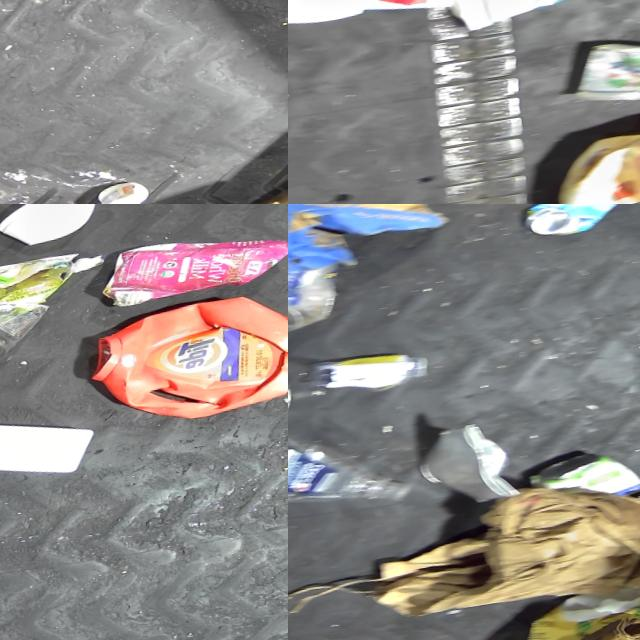can: (523, 445, 640, 519), (0, 284, 65, 375), (511, 204, 623, 247), (288, 375, 304, 431)
non_white_jug: (74, 278, 288, 437), (540, 110, 640, 204)
